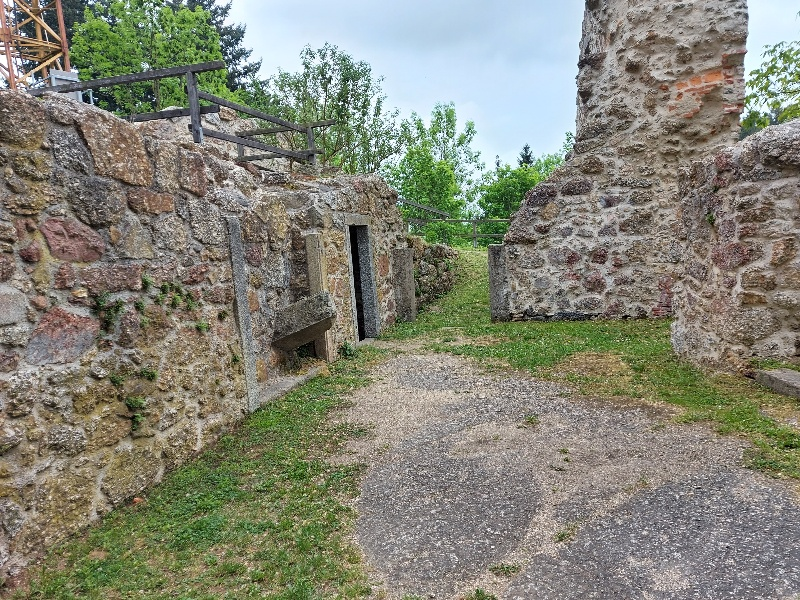door2: (330, 199, 396, 347)
